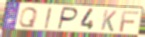4: (79, 8, 96, 33)
F: (118, 11, 140, 33)
I: (44, 7, 53, 30)
K: (100, 9, 119, 32)
P: (56, 7, 79, 32)
Q: (18, 7, 39, 29)
